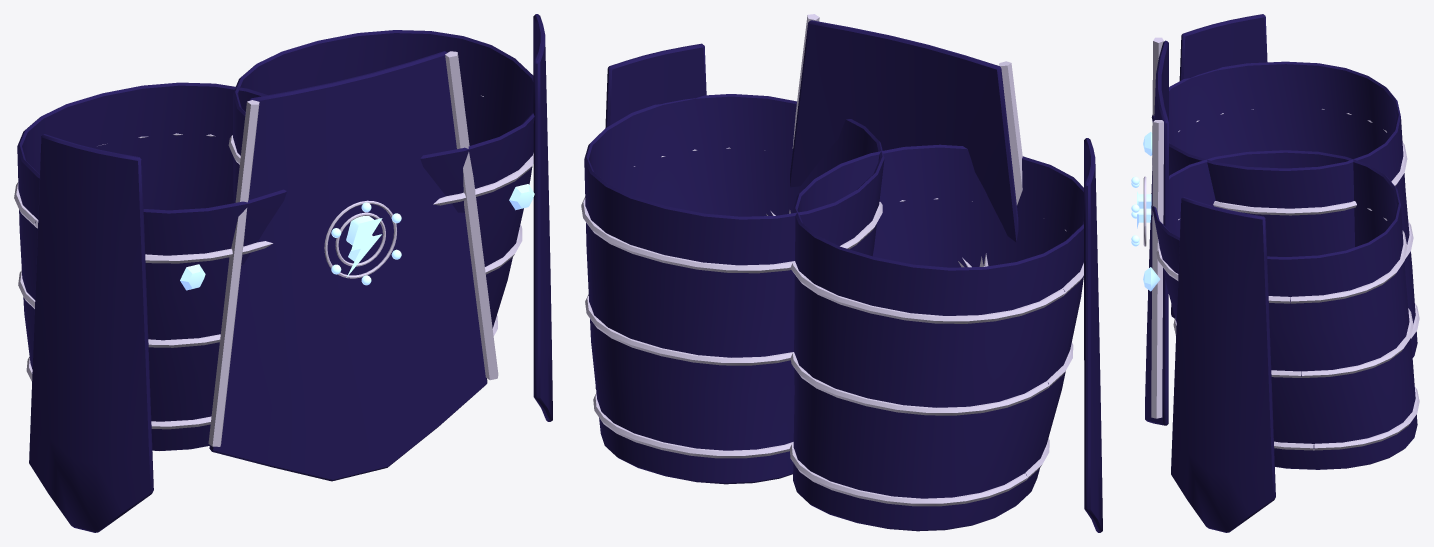
File: asc_eclipse_oracle_leggings.glb
The picture shows the model from 3 angles, left to right: view 1: azimuth 30°, elevation 25°; view 2: azimuth 150°, elevation 25°; view 3: azimuth 270°, elevation 25°; orthographic projection. The views are drawn at different scales.
Parts seen in each view (by area): view 1: asc_eclipse_oracle_leggings, AT_thigh_R, AT_thigh_L; view 2: AT_thigh_R, AT_thigh_L, asc_eclipse_oracle_leggings; view 3: AT_thigh_L, AT_thigh_R, asc_eclipse_oracle_leggings.
Boxes of the visible parts, x1,y1,x2,y2 form: asc_eclipse_oracle_leggings: [208, 51, 498, 481]; AT_thigh_R: [14, 82, 286, 532]; AT_thigh_L: [228, 14, 552, 421]; AT_thigh_R: [789, 138, 1102, 532]; AT_thigh_L: [581, 43, 884, 484]; asc_eclipse_oracle_leggings: [766, 14, 1022, 267]; AT_thigh_L: [1143, 150, 1419, 532]; AT_thigh_R: [1143, 14, 1419, 357]; asc_eclipse_oracle_leggings: [1131, 37, 1168, 425].
Bounding box in the file's own units: 0.5162 × 0.4068 × 0.2996.
